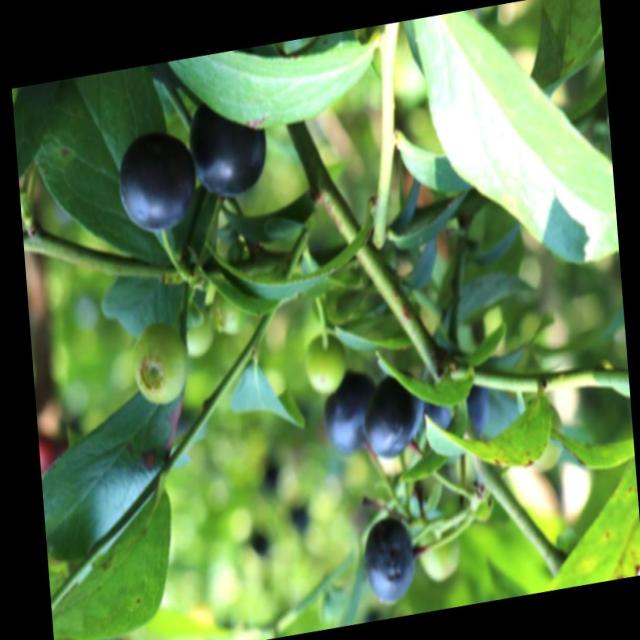blueberry: (186, 90, 272, 206), (115, 125, 199, 242), (362, 367, 429, 470), (421, 361, 490, 459), (323, 366, 383, 466), (363, 514, 419, 604)
blueberry-unripe: (129, 325, 187, 409), (302, 331, 352, 402), (211, 284, 252, 344), (420, 528, 457, 586), (183, 301, 216, 360)
